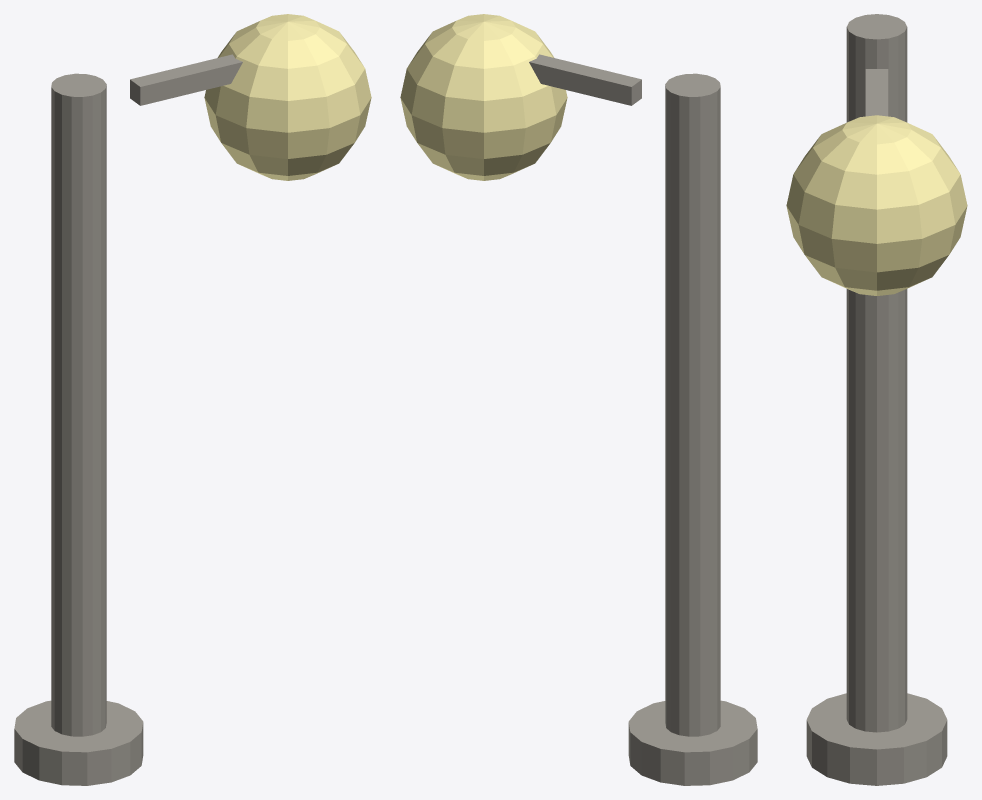
File: lamp_01.glb
3 renders of one model, left to right at view 1: azimuth 30°, elevation 25°; view 2: azimuth 150°, elevation 25°; view 3: azimuth 270°, elevation 25°, orthographic. The views are drawn at different scales.
Visible parts, largest first — view 1: Lamp01; view 2: Lamp01; view 3: Lamp01.
Boxes of the visible parts, x1=… form: Lamp01: x1=14, y1=14, x2=371, y2=785; Lamp01: x1=400, y1=14, x2=757, y2=785; Lamp01: x1=786, y1=14, x2=967, y2=785.
Bounding box in the file's own units: 0.84 × 1.63 × 0.36.
